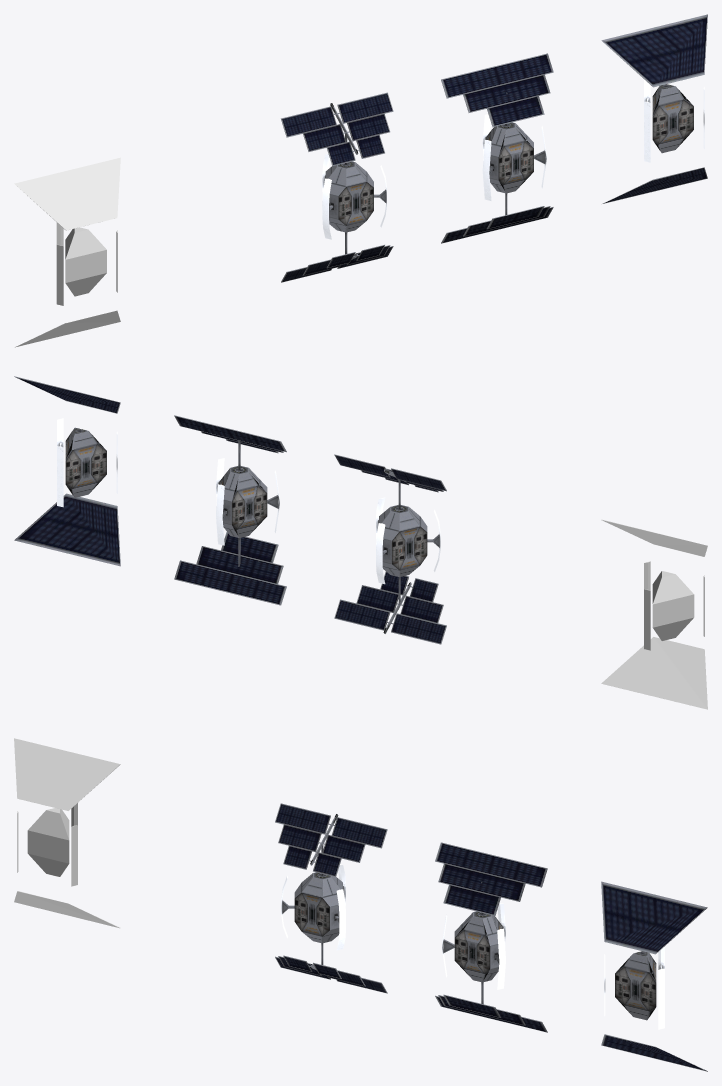
File: ter_pharos.DAE
3 views of the same model, one above another, from view 1: azimuth 30°, elevation 25°; view 2: azimuth 150°, elevation 25°; view 3: azimuth 330°, elevation 25° (orthographic).
Parts seen in each view (by area): view 1: MULT[Root_mesh]_LOD[1], MULT[Root_mesh]_LOD[0], COL[Root], MULT[Root_mesh]_LOD[2]; view 2: MULT[Root_mesh]_LOD[1], MULT[Root_mesh]_LOD[0], COL[Root], MULT[Root_mesh]_LOD[2]; view 3: MULT[Root_mesh]_LOD[1], MULT[Root_mesh]_LOD[0], COL[Root], MULT[Root_mesh]_LOD[2].
Boxes of the visible parts, box(x1,y1,x2,y2) form: MULT[Root_mesh]_LOD[1]: box(441, 53, 553, 243); MULT[Root_mesh]_LOD[0]: box(281, 92, 393, 282); COL[Root]: box(14, 157, 120, 347); MULT[Root_mesh]_LOD[2]: box(601, 14, 707, 203); MULT[Root_mesh]_LOD[1]: box(174, 415, 286, 605); MULT[Root_mesh]_LOD[0]: box(334, 454, 446, 644); COL[Root]: box(601, 519, 707, 709); MULT[Root_mesh]_LOD[2]: box(14, 376, 120, 566); MULT[Root_mesh]_LOD[1]: box(435, 842, 547, 1032); MULT[Root_mesh]_LOD[0]: box(275, 803, 387, 993); COL[Root]: box(14, 738, 120, 928); MULT[Root_mesh]_LOD[2]: box(601, 881, 707, 1071).
Bounding box in the file's own units: 79.59 × 18.08 × 6.6.
Materials: 1 (1 with a texture image).
